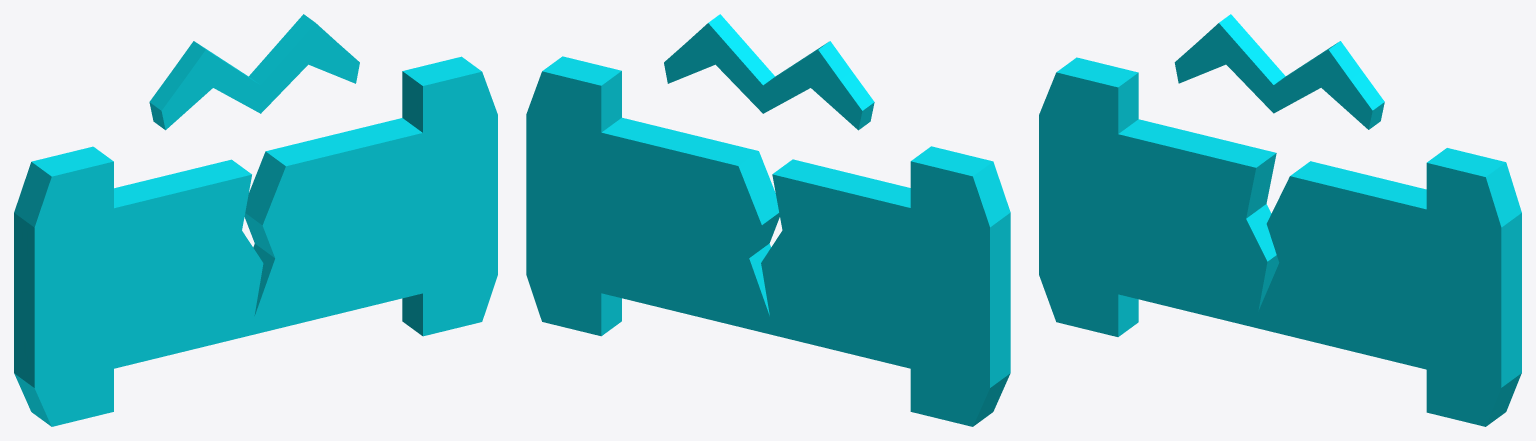
File: broken_pipe.fbx
3 views of the same model, side by side, from view 1: azimuth 30°, elevation 25°; view 2: azimuth 150°, elevation 25°; view 3: azimuth 330°, elevation 25° (orthographic).
Parts seen in each view (by area): view 1: pDisc4; view 2: pDisc4; view 3: pDisc4.
Part boxes in pixels (box(x1,y1,x2,y2)): pDisc4: box(14, 14, 497, 426); pDisc4: box(526, 14, 1010, 426); pDisc4: box(1039, 14, 1521, 426).
Size of the model in its own units: 2.82 by 1.95 by 0.2159.
